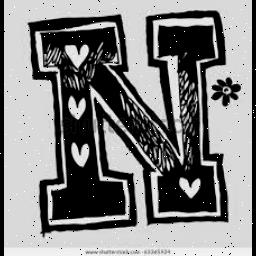n: (24, 4, 236, 242)
